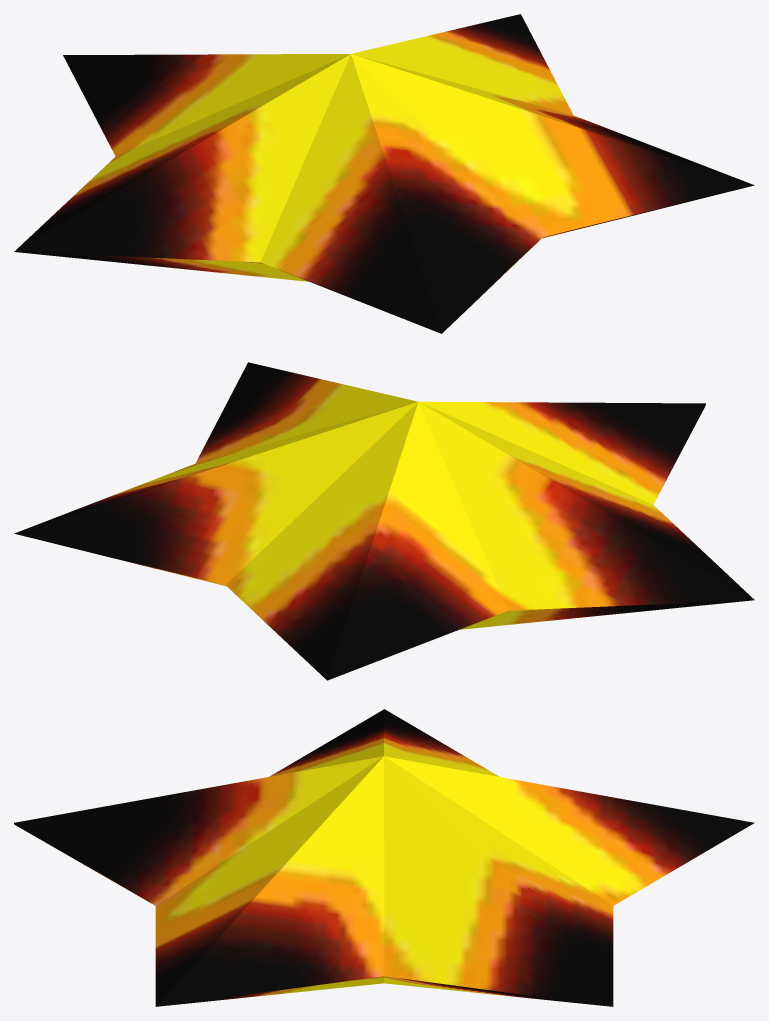
Rendered from 0477_xinxin.glb.
The picture shows the model from 3 angles, top to bottom: view 1: azimuth 30°, elevation 25°; view 2: azimuth 150°, elevation 25°; view 3: azimuth 270°, elevation 25°; orthographic projection. The views are drawn at different scales.
Size of the model in its own units: 2.09 by 0.7441 by 2.2.
1 material, 1 textured.
